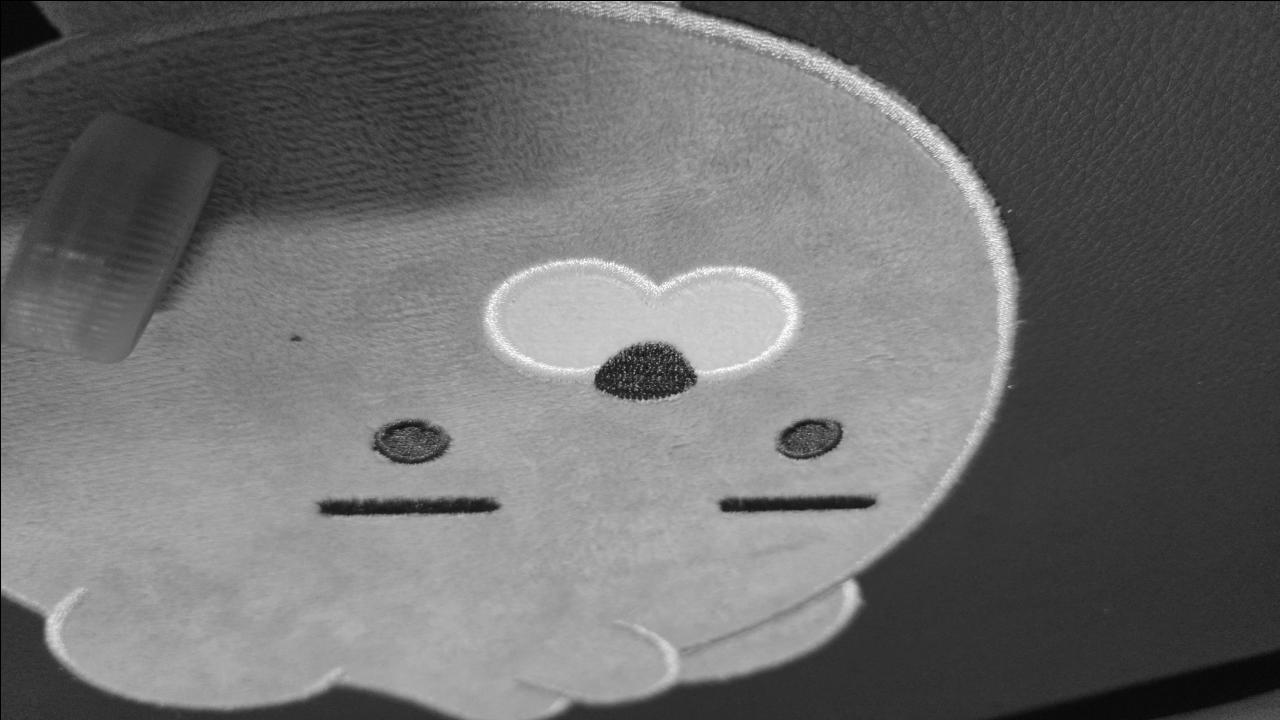bottle_cap: (0, 106, 231, 366)
